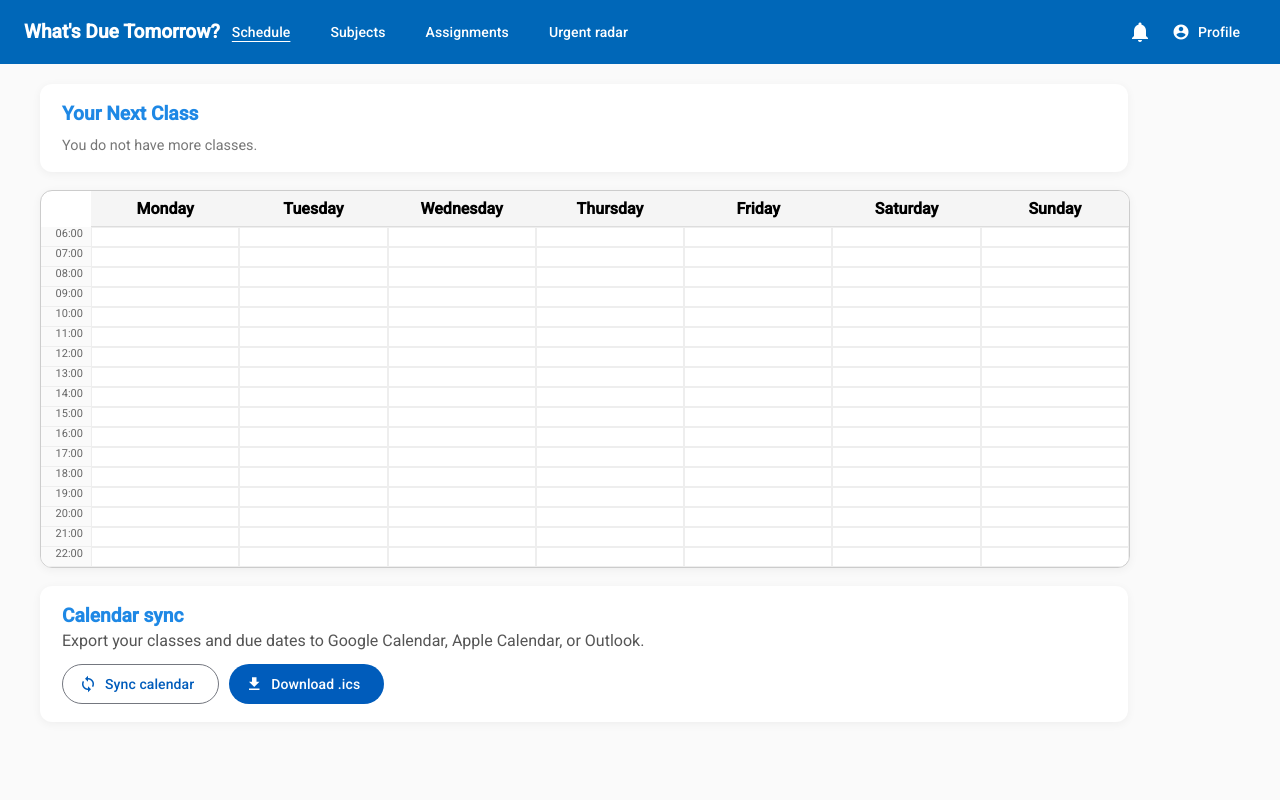
F23: Sincronización y Exportación de Calendario .ics (Frontend E2E, UI & a11y) › E4: Debería mostrar mensaje de error amigable cuando la suscripción falla en el servidor
The image size is (1280, 800).
Click the button "Sync calendar" at (141, 684), box top-left (62, 664), bottom-right (219, 704)
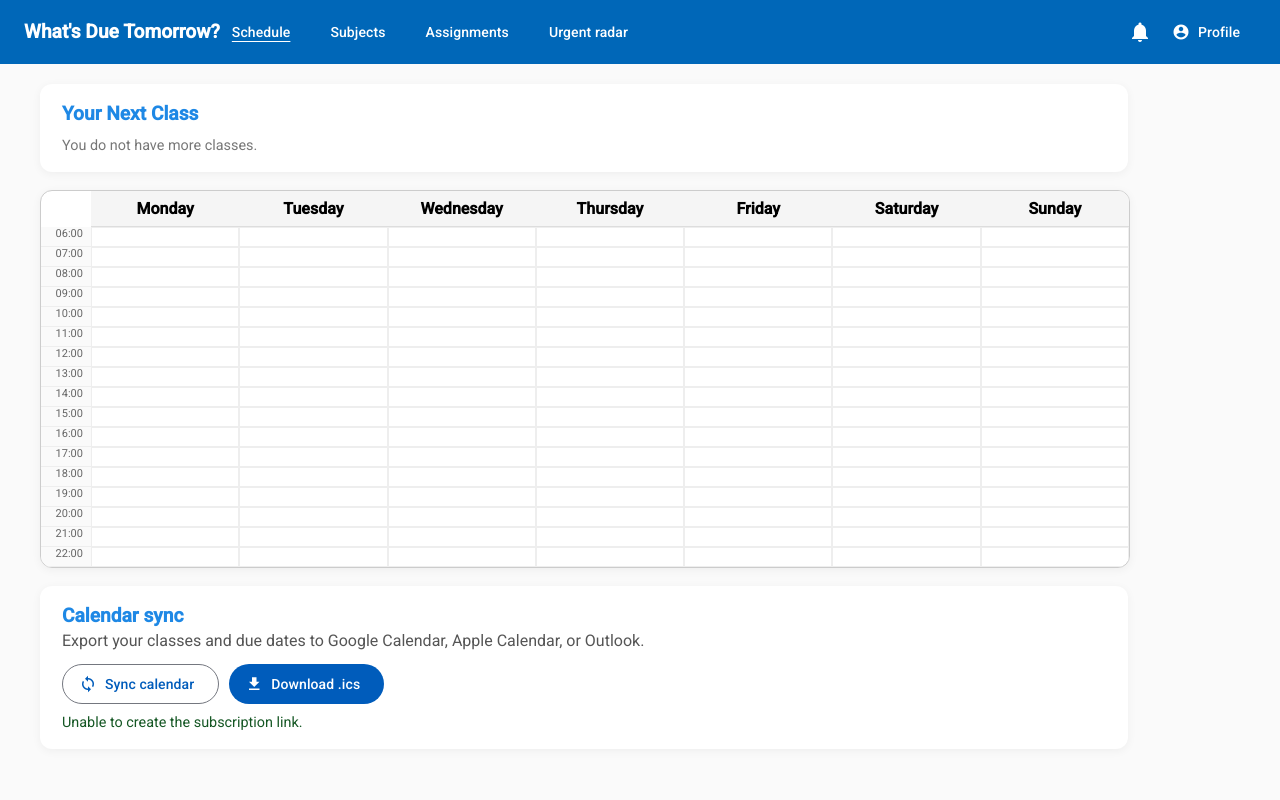
Check: the message with class "calendar-message" shows "Unable to create the subscription link", box top-left (62, 714), bottom-right (303, 731)
